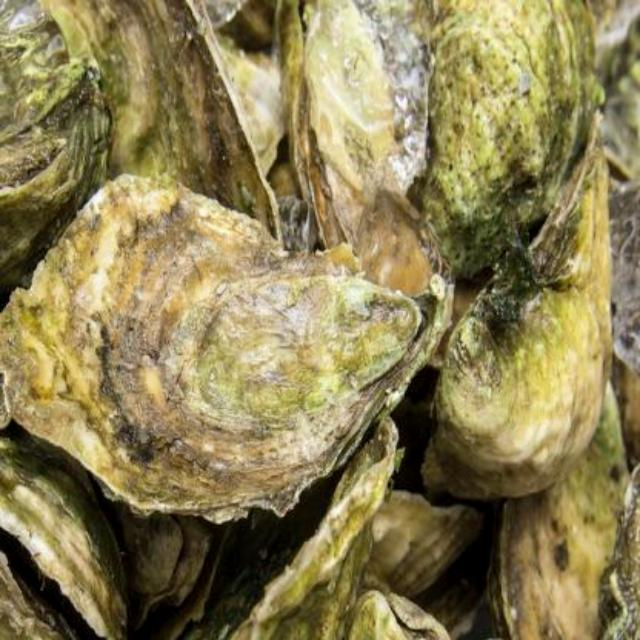Oyster-Closed: (0, 175, 445, 508), (424, 134, 613, 501), (50, 0, 278, 238), (426, 0, 604, 271), (187, 420, 399, 638), (488, 388, 626, 638), (0, 0, 112, 293), (302, 0, 427, 197), (371, 497, 478, 599), (356, 192, 444, 288), (597, 463, 638, 638)
Oyster-Open: (0, 437, 123, 638), (86, 472, 231, 638), (349, 594, 460, 638)
